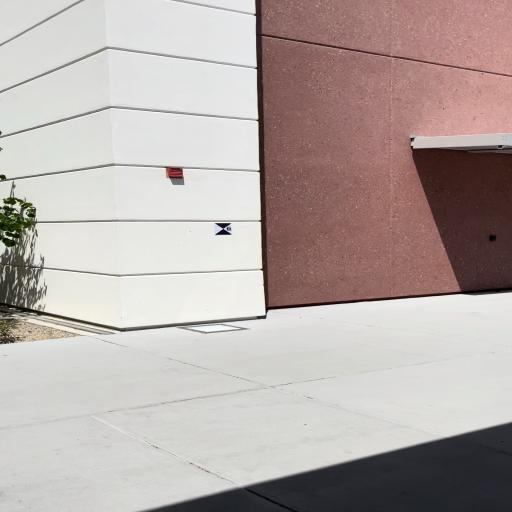target6: (215, 223, 233, 235)
